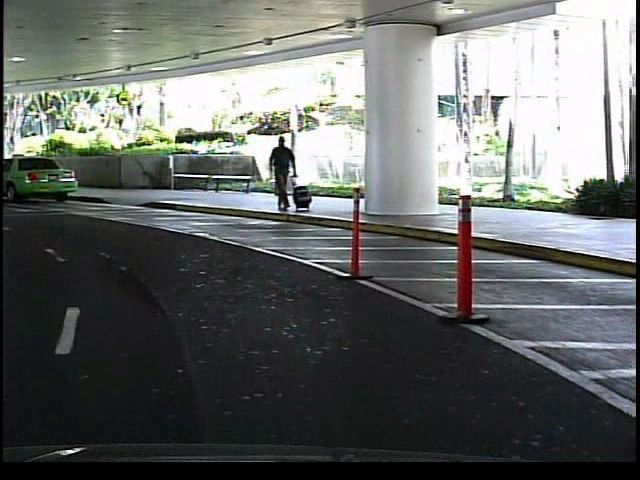person: (267, 129, 304, 217)
